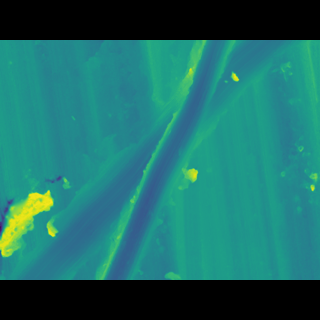Loch: (5, 69, 301, 249), (105, 69, 233, 249)
